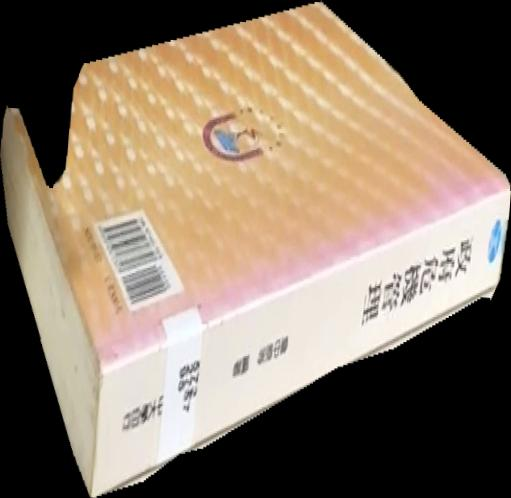flat: (1, 1, 511, 498)
